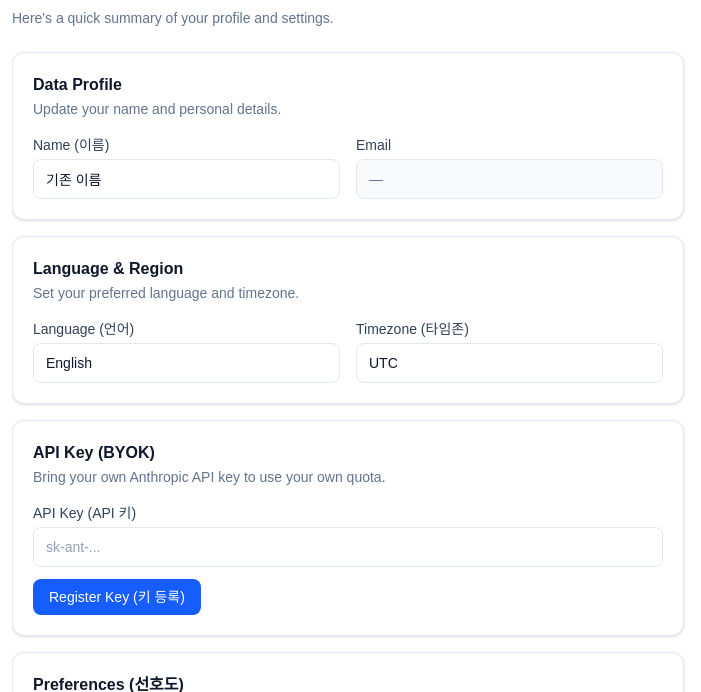
TC-7001: 프로필 이름 변경 › TC-7001: 저장 성공 시 성공 메시지가 표시된다
Step 1. Replace the text in the field labelled "Name (이름)" with "새 이름" → (186, 179), box [33,159,340,199]
(page scrolled)
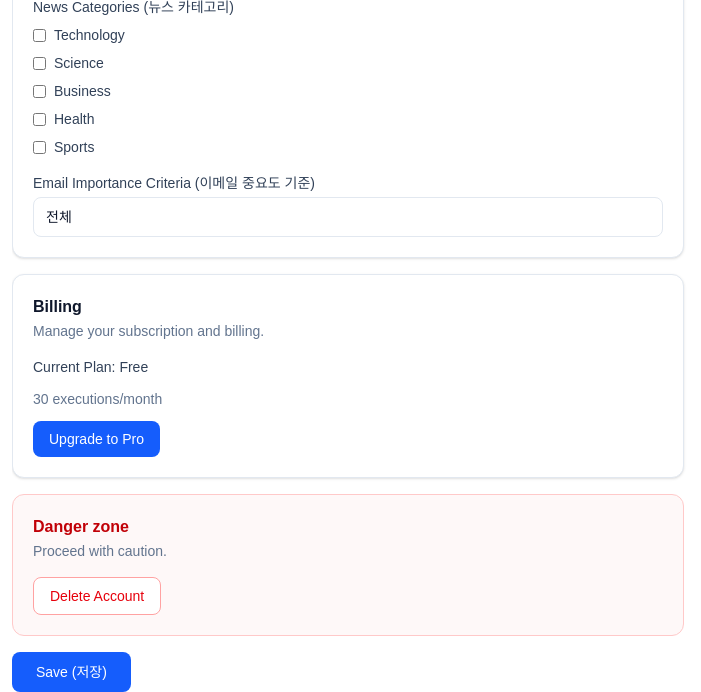
Step 2. Click the button "Save (저장)" → (71, 672), box [12,652,131,691]
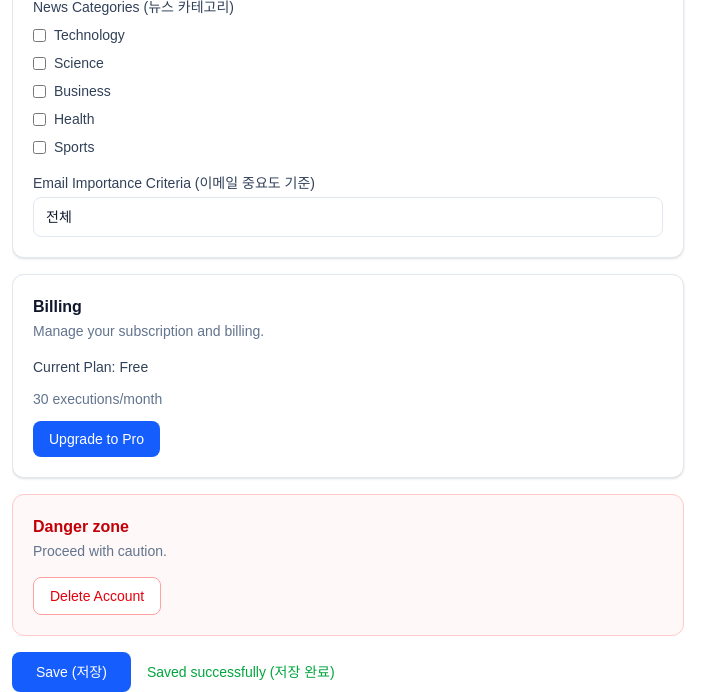
Check: the text "Saved successfully (저장 완료)" is shown, box [147,662,335,682]
